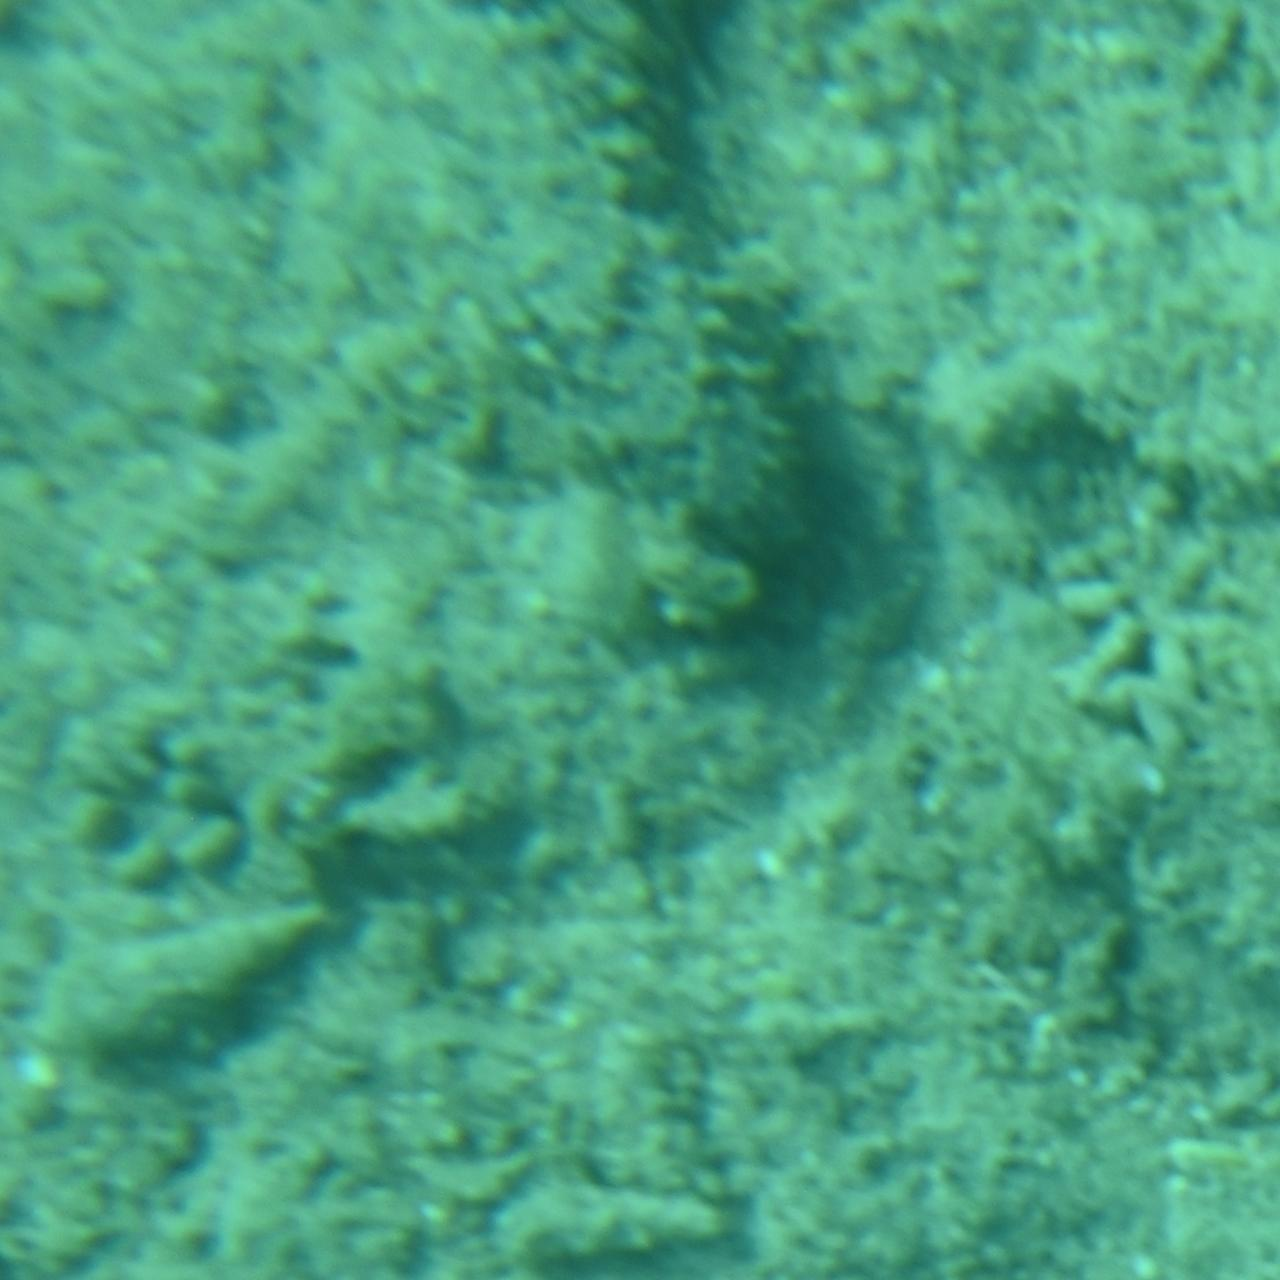Holothuria tubulosa: (418, 0, 862, 647)
